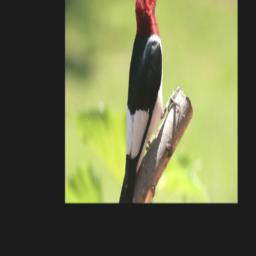Woodpecker: (117, 0, 171, 202)
